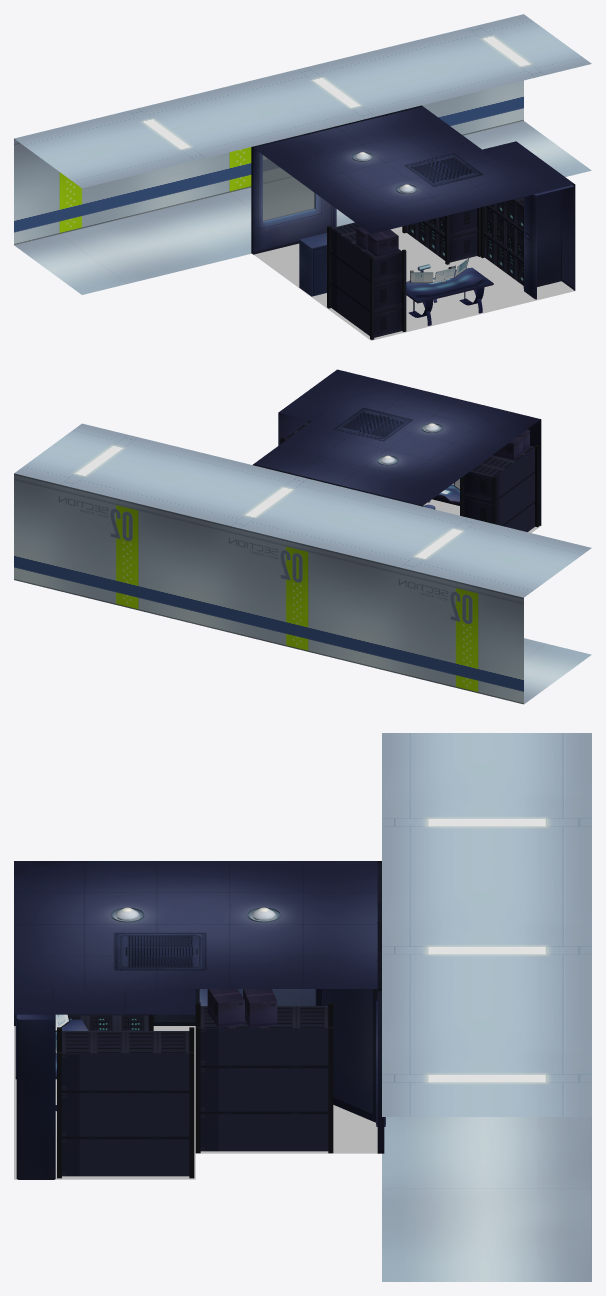
File: serverroom.fbx
3 renders of one model, top to bottom at view 1: azimuth 30°, elevation 25°; view 2: azimuth 150°, elevation 25°; view 3: azimuth 270°, elevation 25°, orthographic. The views are drawn at different scales.
Parts seen in each view (by area): view 1: colidor, roof, server, wall1, shelf, wall2, glass, desk; view 2: colidor, roof, server, wall1; view 3: colidor, roof, server, wall2, shelf, wall1.
Boxes of the visible parts, x1,y1,x2,y2 form: colidor: (14, 14, 591, 294); roof: (254, 106, 574, 233); server: (327, 197, 523, 339); wall1: (254, 184, 575, 340); shelf: (299, 185, 573, 299); wall2: (251, 105, 422, 254); glass: (263, 155, 315, 221); desk: (406, 267, 493, 325); colidor: (14, 423, 591, 704); roof: (254, 369, 540, 505); server: (280, 420, 539, 531); wall1: (278, 412, 541, 532); colidor: (382, 733, 591, 1281); roof: (14, 861, 377, 1014); server: (16, 989, 333, 1178); wall2: (315, 861, 385, 1153); shelf: (16, 989, 207, 1179); wall1: (14, 989, 377, 1179).
Size of the model in its own units: 1342 by 278 by 854.
